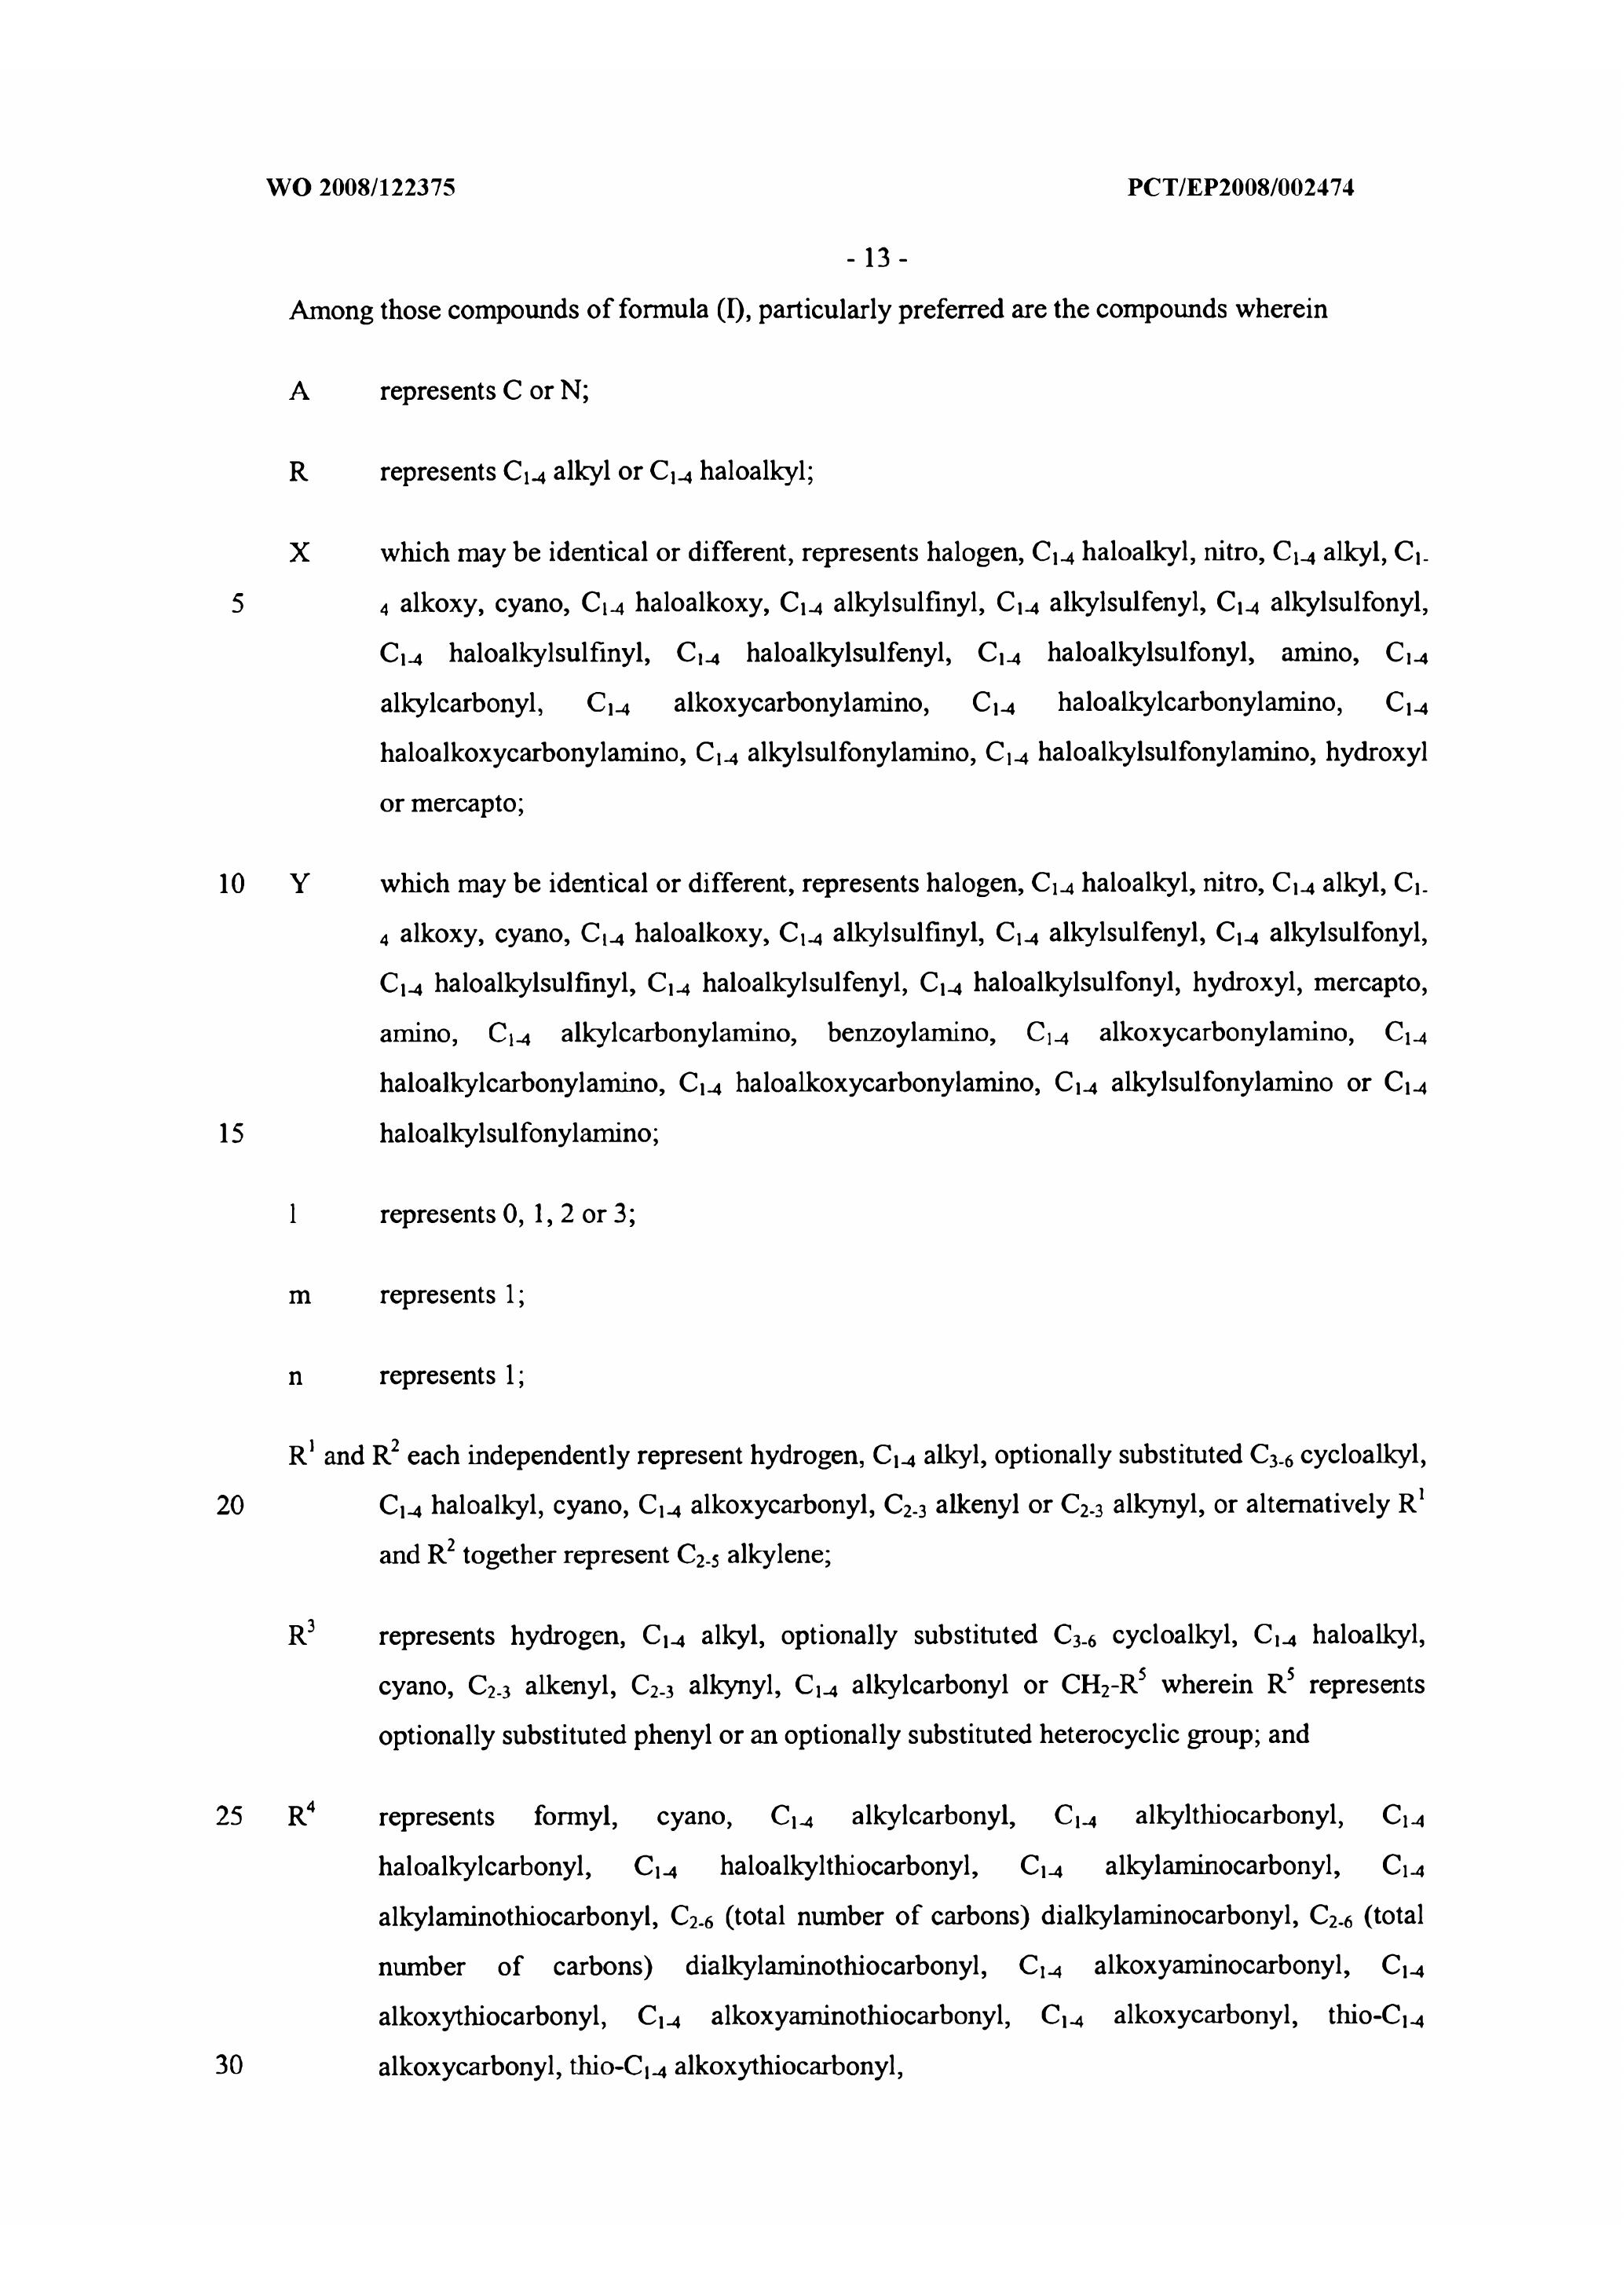substitutes: (271, 526, 1501, 846)
